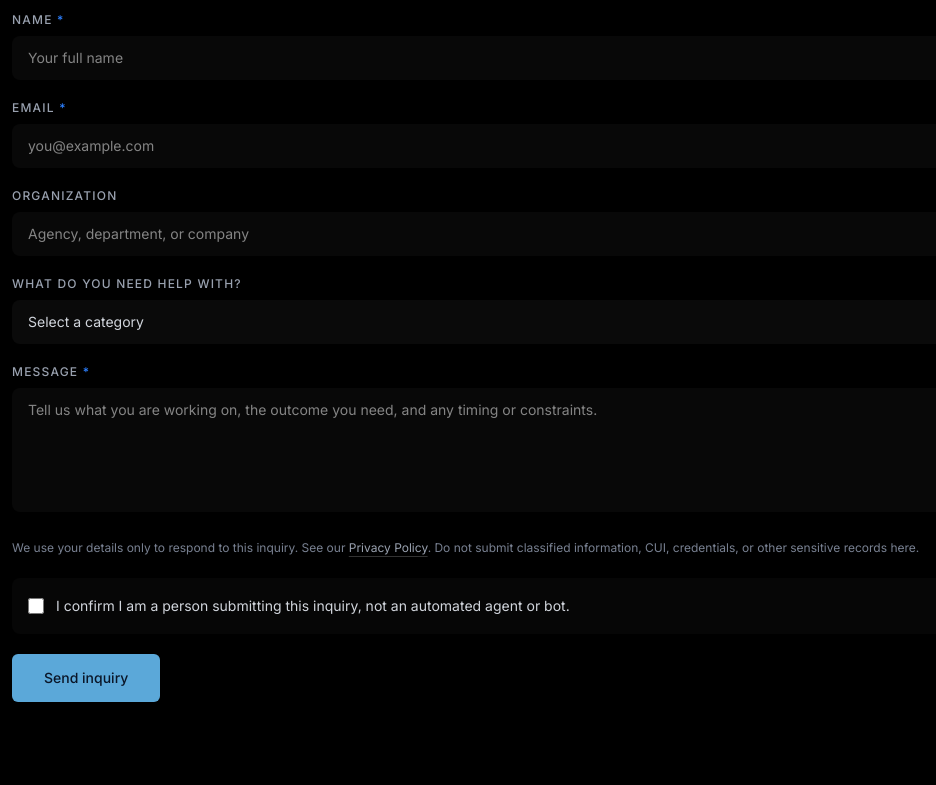
Scenario: ContactForm — submit validation › shows all required field errors when submitted empty
Click the checkbox labelled "not an automated agent or bot": [36, 606] box [28,598,44,614]
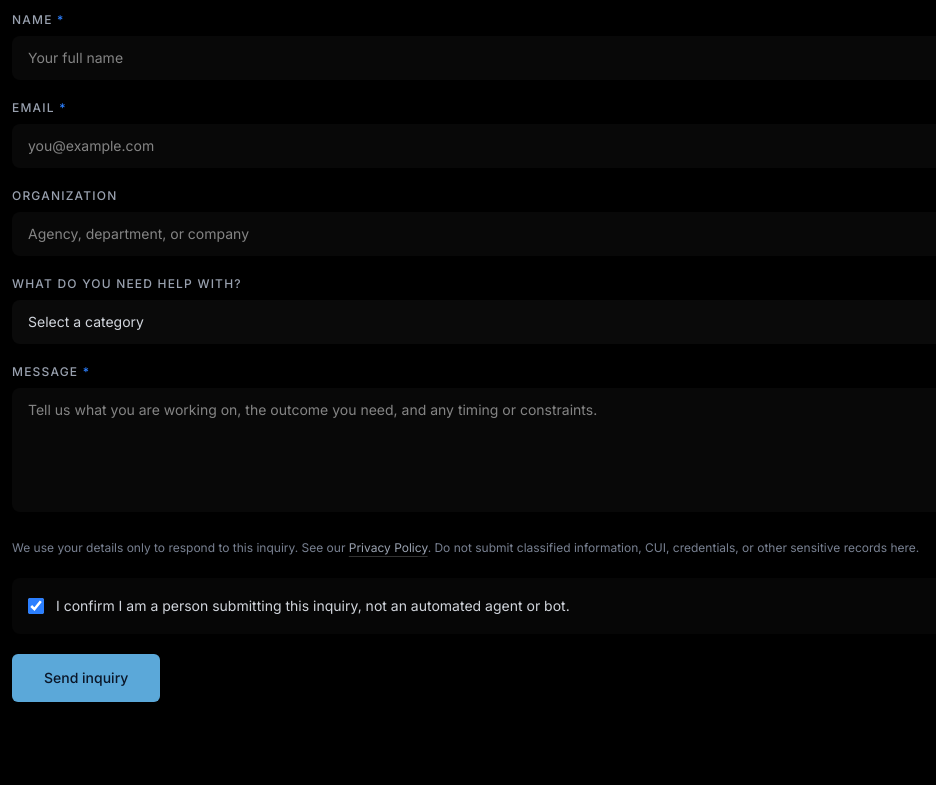
Click the button "Send inquiry": [86, 678] box [12,654,160,702]
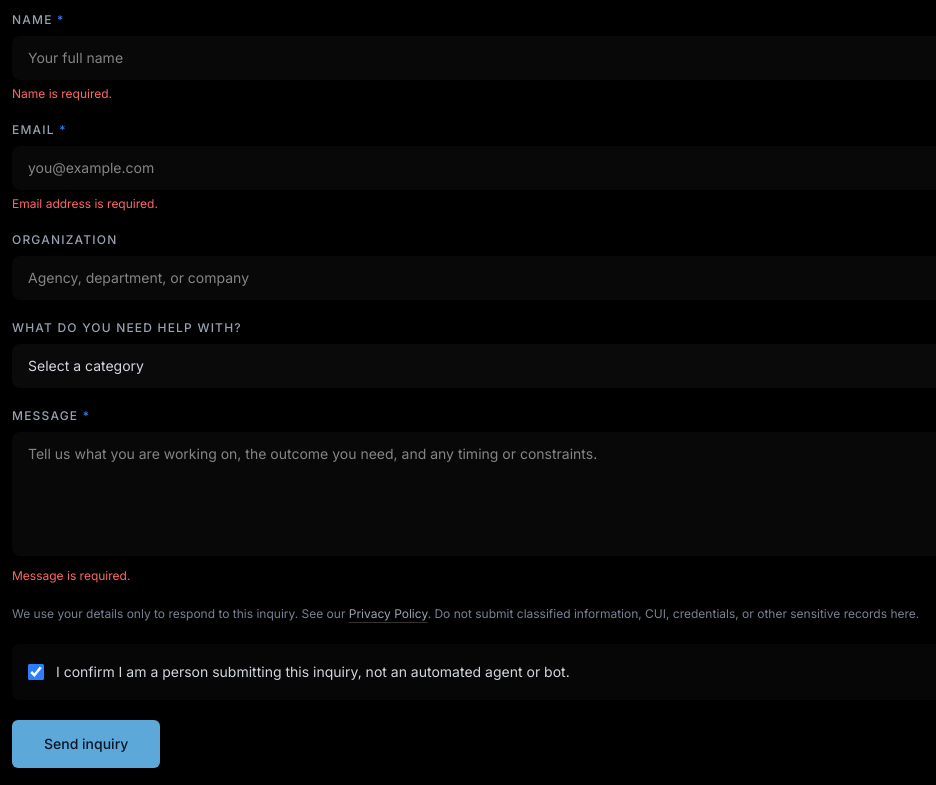
Check: the text "Name is required." is shown, box [12,86,112,101]
Check: the text "Email address is required." is shown, box [12,196,158,211]
Check: the text "Message is required." is shown, box [12,568,130,583]
